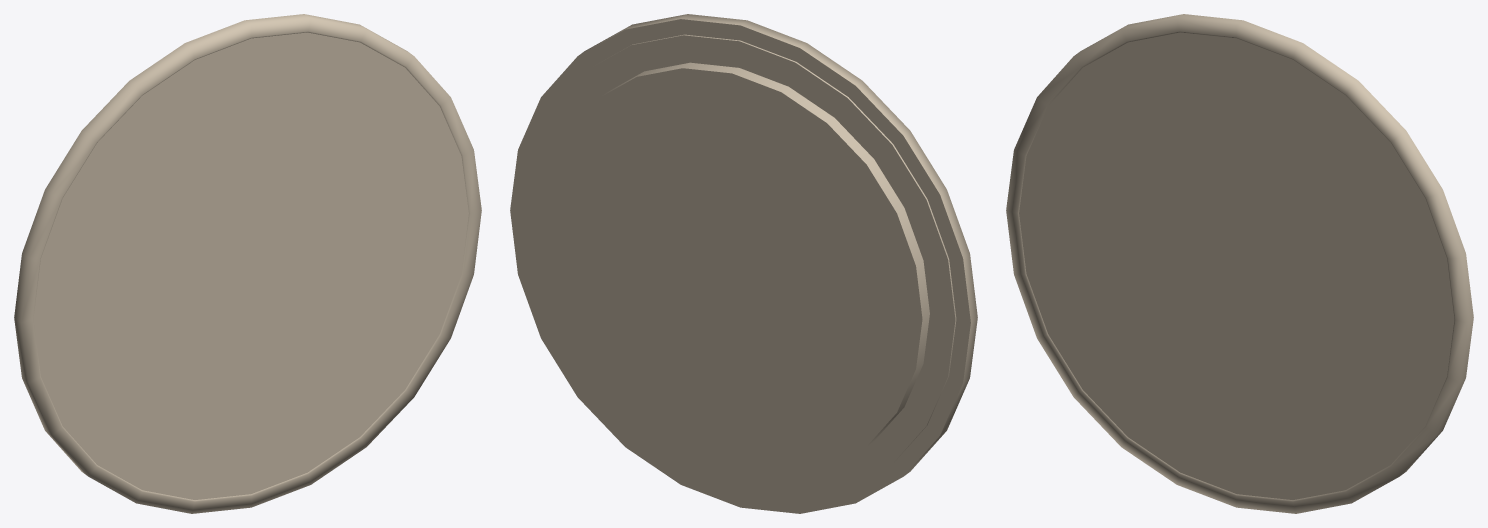
Rendered from round_mirror_16_L.fbx.
3 renders of one model, left to right at view 1: azimuth 30°, elevation 25°; view 2: azimuth 150°, elevation 25°; view 3: azimuth 330°, elevation 25°, orthographic.
Visible parts, largest first — view 1: round_mirror_16_L; view 2: round_mirror_16_L; view 3: round_mirror_16_L.
Boxes of the visible parts, left/top/right/bottom form: round_mirror_16_L: left=14, top=14, right=481, bottom=513; round_mirror_16_L: left=510, top=14, right=977, bottom=513; round_mirror_16_L: left=1006, top=14, right=1473, bottom=513.
Size of the model in its own units: 17.82 by 17.82 by 1.05.
